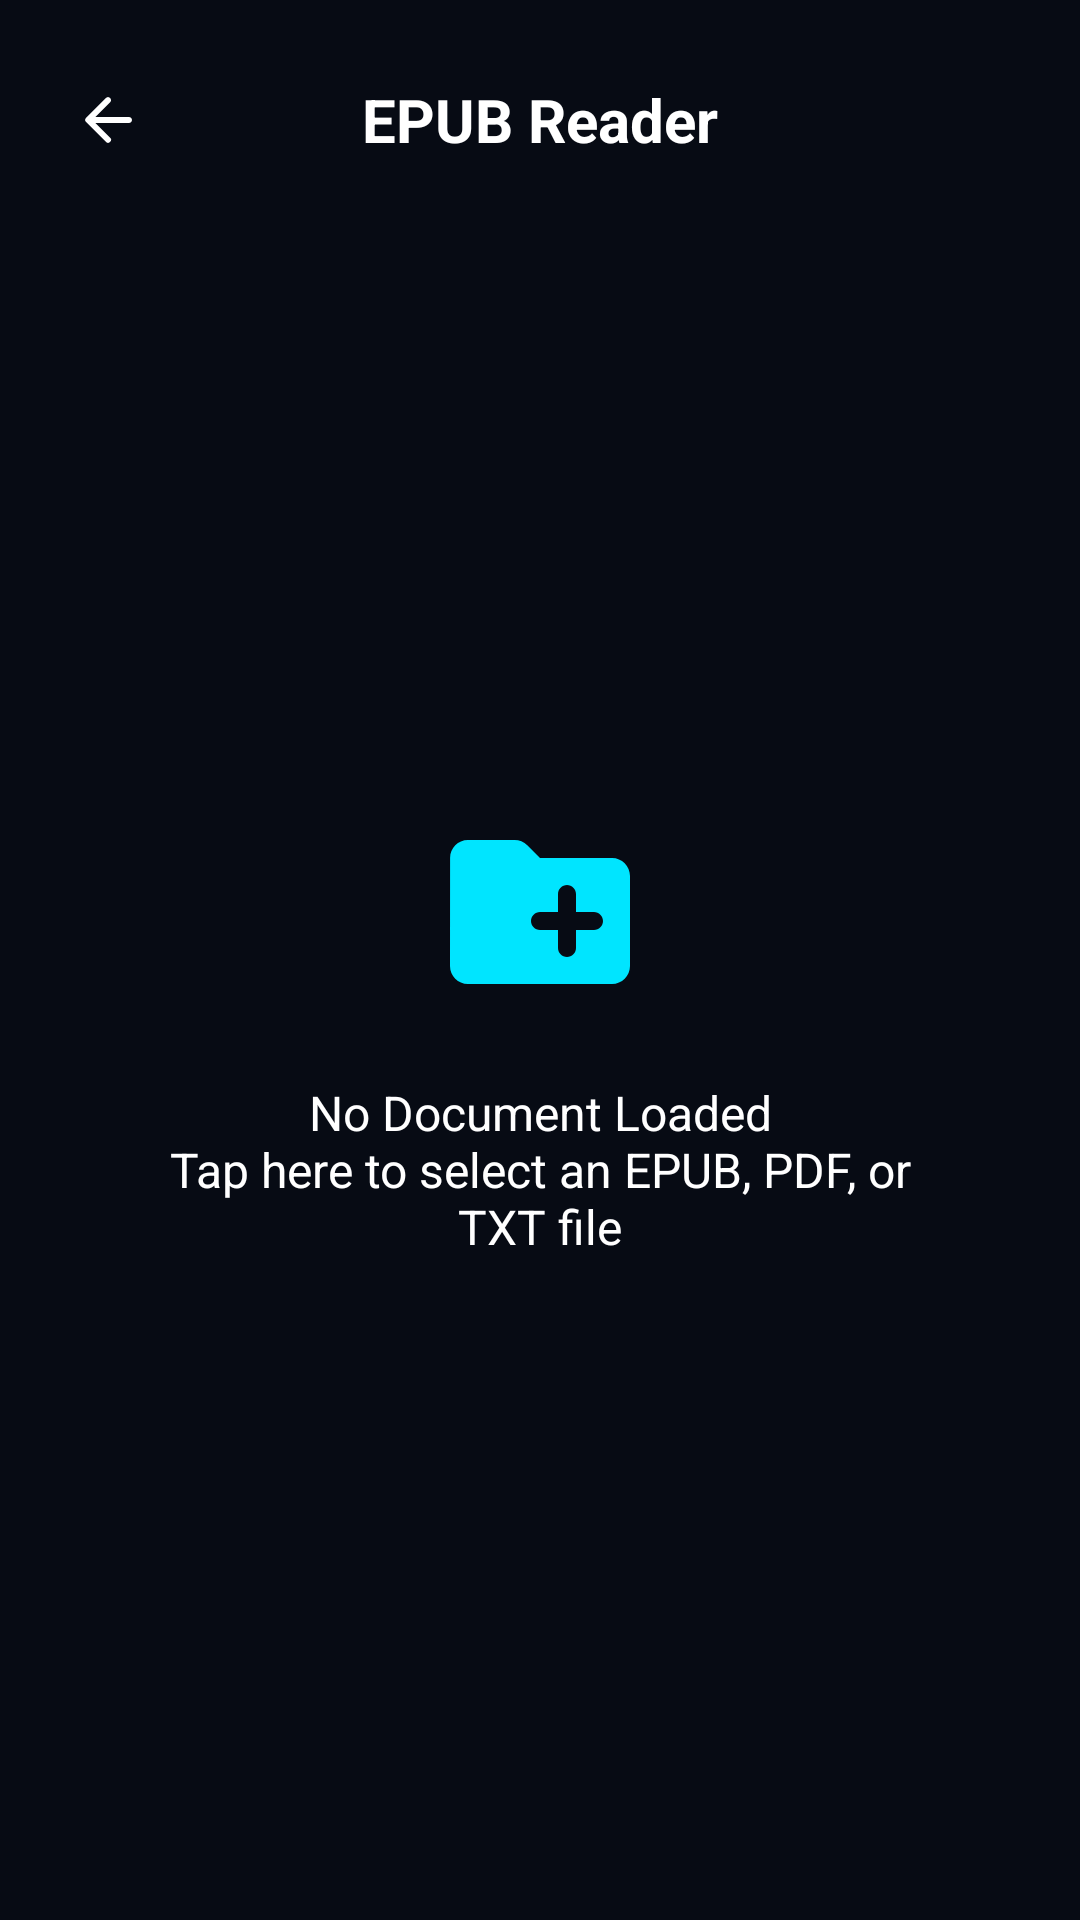

Point at icon controls on the screen. Image size 1080w x 1920h, points as (x=x, y=y).
Back: (x=108, y=120)
